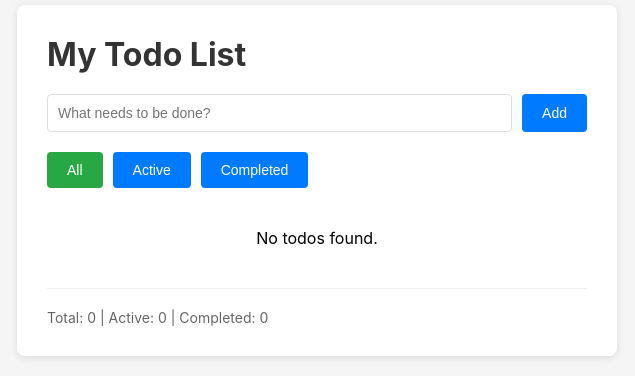
Test: App › can add a new todo
Type "Test todo" into the field with placeholder "What needs to be done?".
click(280, 113); type("Test todo")  # box top-left (47, 94), bottom-right (512, 132)
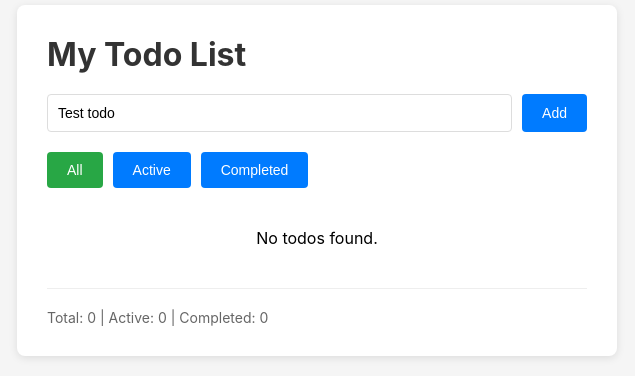
Click the button "Add".
click(555, 113)  # box top-left (522, 94), bottom-right (587, 132)
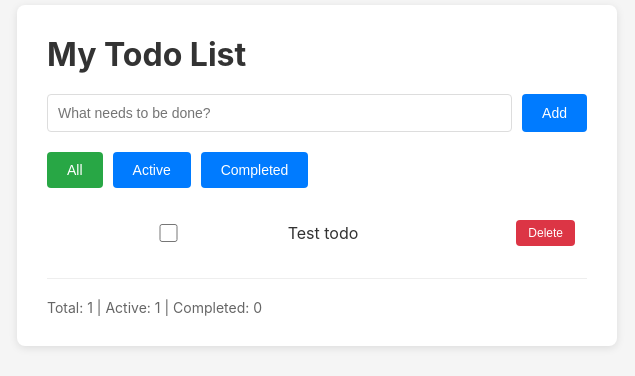
Check: the text "Test todo" is shown, box top-left (288, 223), bottom-right (358, 243)
